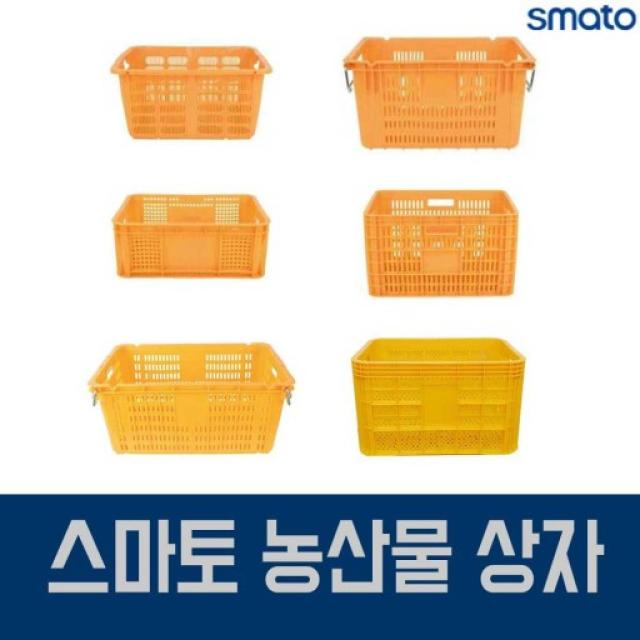basket: (88, 343, 296, 456), (352, 338, 527, 458), (346, 38, 536, 147), (365, 191, 519, 296), (110, 46, 273, 140), (114, 195, 270, 277)
